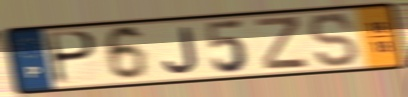5: (204, 17, 254, 77)
6: (102, 24, 152, 84)
J: (161, 25, 200, 75)
P: (48, 29, 100, 86)
S: (307, 11, 362, 70)
Z: (254, 14, 311, 71)
